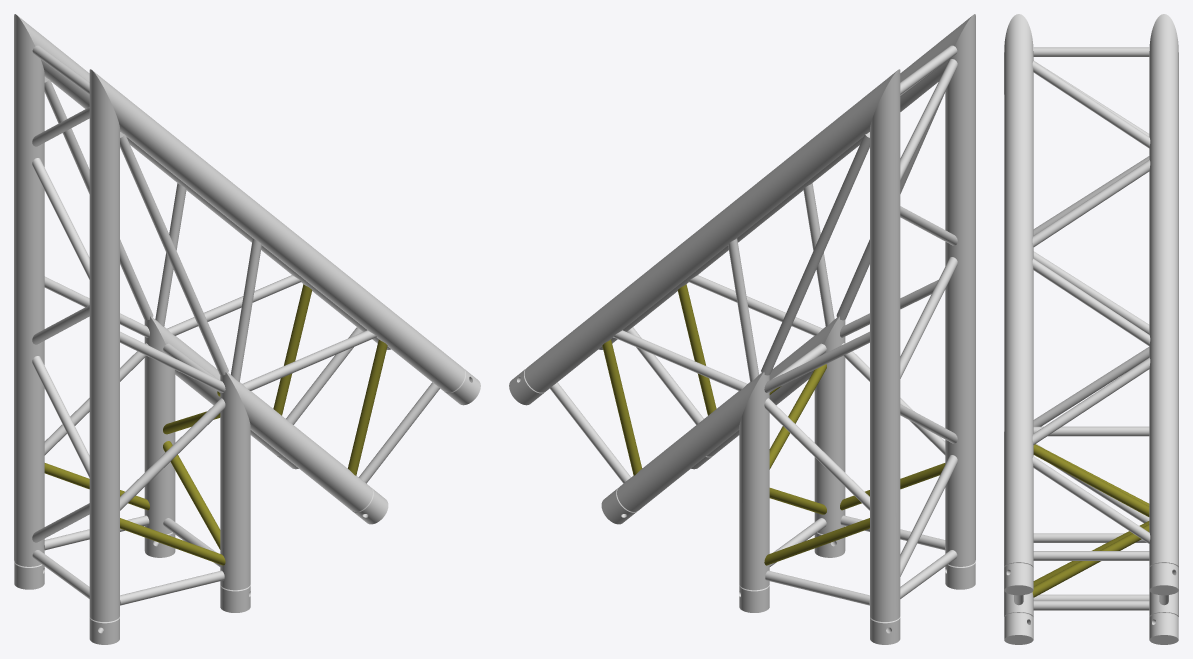
The picture shows the model from 3 angles, left to right: view 1: azimuth 30°, elevation 25°; view 2: azimuth 150°, elevation 25°; view 3: azimuth 270°, elevation 25°; orthographic projection. The views are drawn at different scales.
Parts seen in each view (by area): view 1: 260027788; view 2: 260027788; view 3: 260027788.
Boxes of the visible parts, x1,y1,x2,y2 form: 260027788: (14,14,480,644); 260027788: (509,14,975,644); 260027788: (1004,14,1178,644).
Size of the model in its own units: 0.7071 by 0.9999 by 0.2873.
